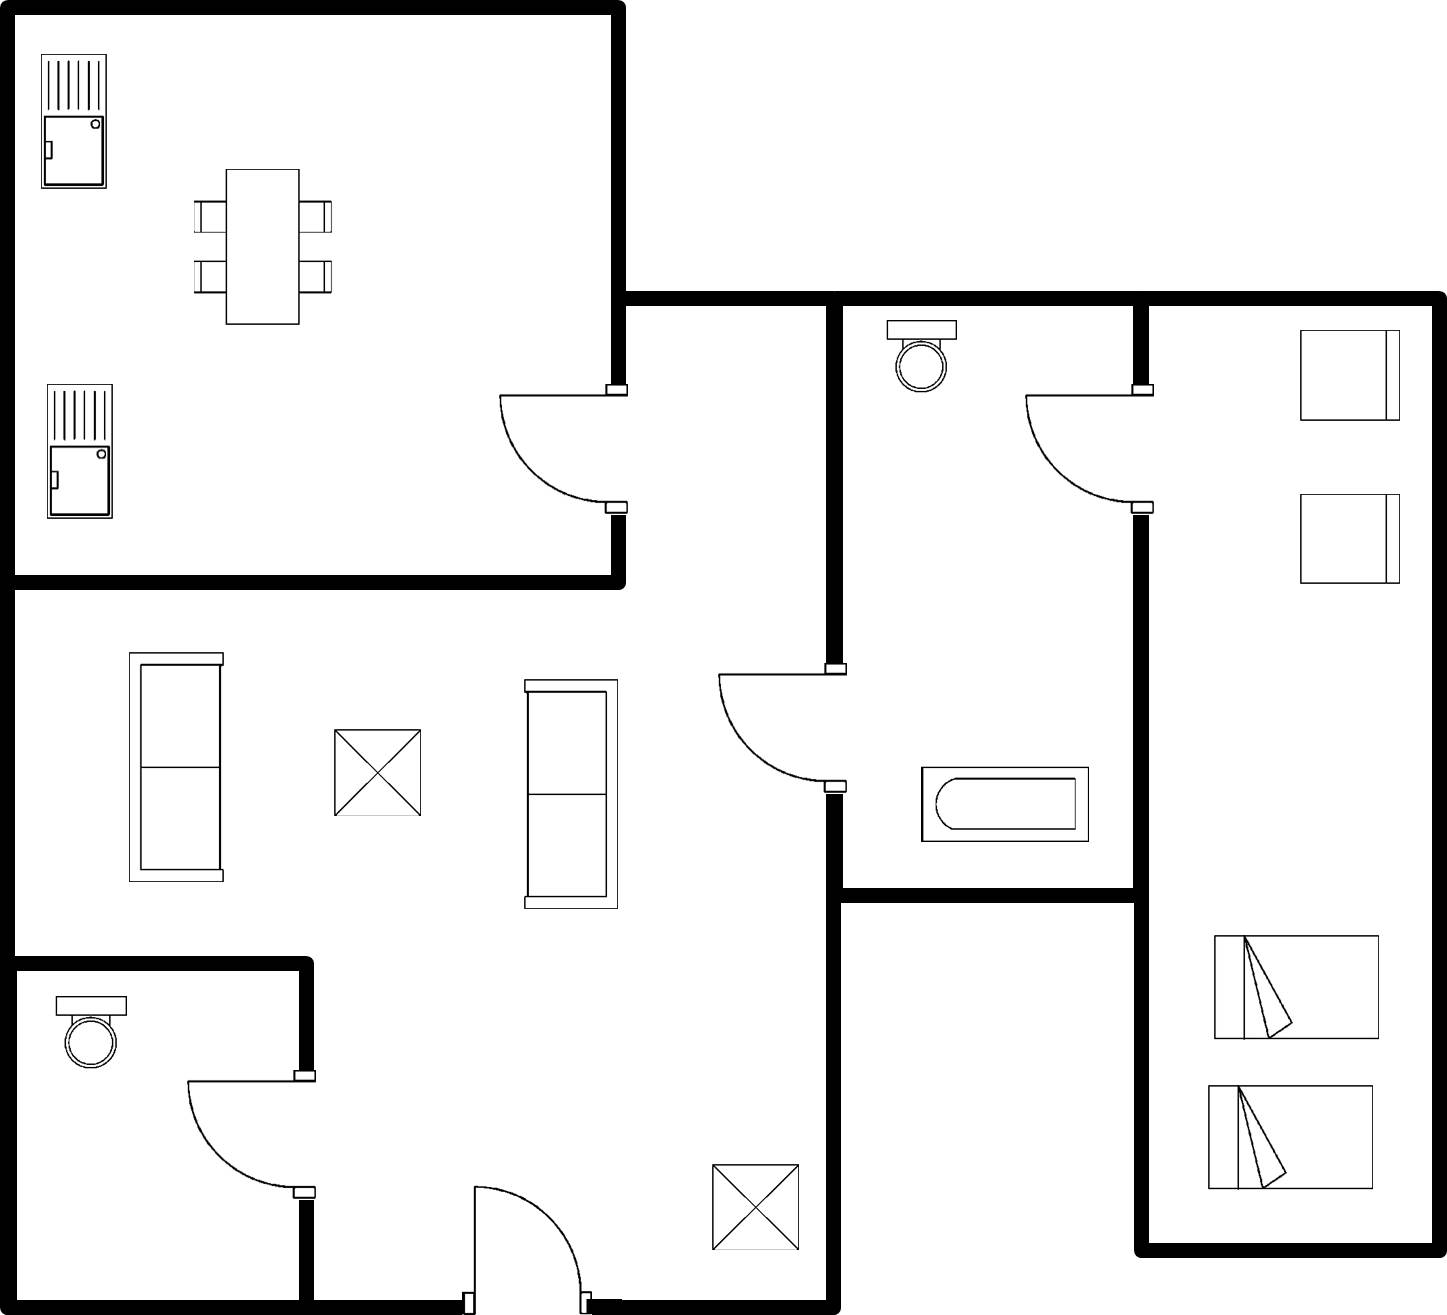bed: (1202, 921, 1394, 1051), (1194, 1077, 1386, 1201)
coffee_table: (318, 719, 431, 826), (700, 1154, 807, 1260)
dining_table: (185, 160, 341, 342)
large_sink: (41, 987, 140, 1085), (875, 316, 967, 404)
large_sofa: (116, 642, 239, 894), (509, 668, 629, 917)
sink: (34, 44, 121, 198), (40, 380, 123, 531)
small_sofa: (1288, 486, 1405, 598), (1291, 322, 1412, 427)
tub: (903, 754, 1099, 854)
